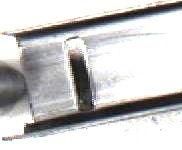40ngpress: (0, 12, 126, 139)
